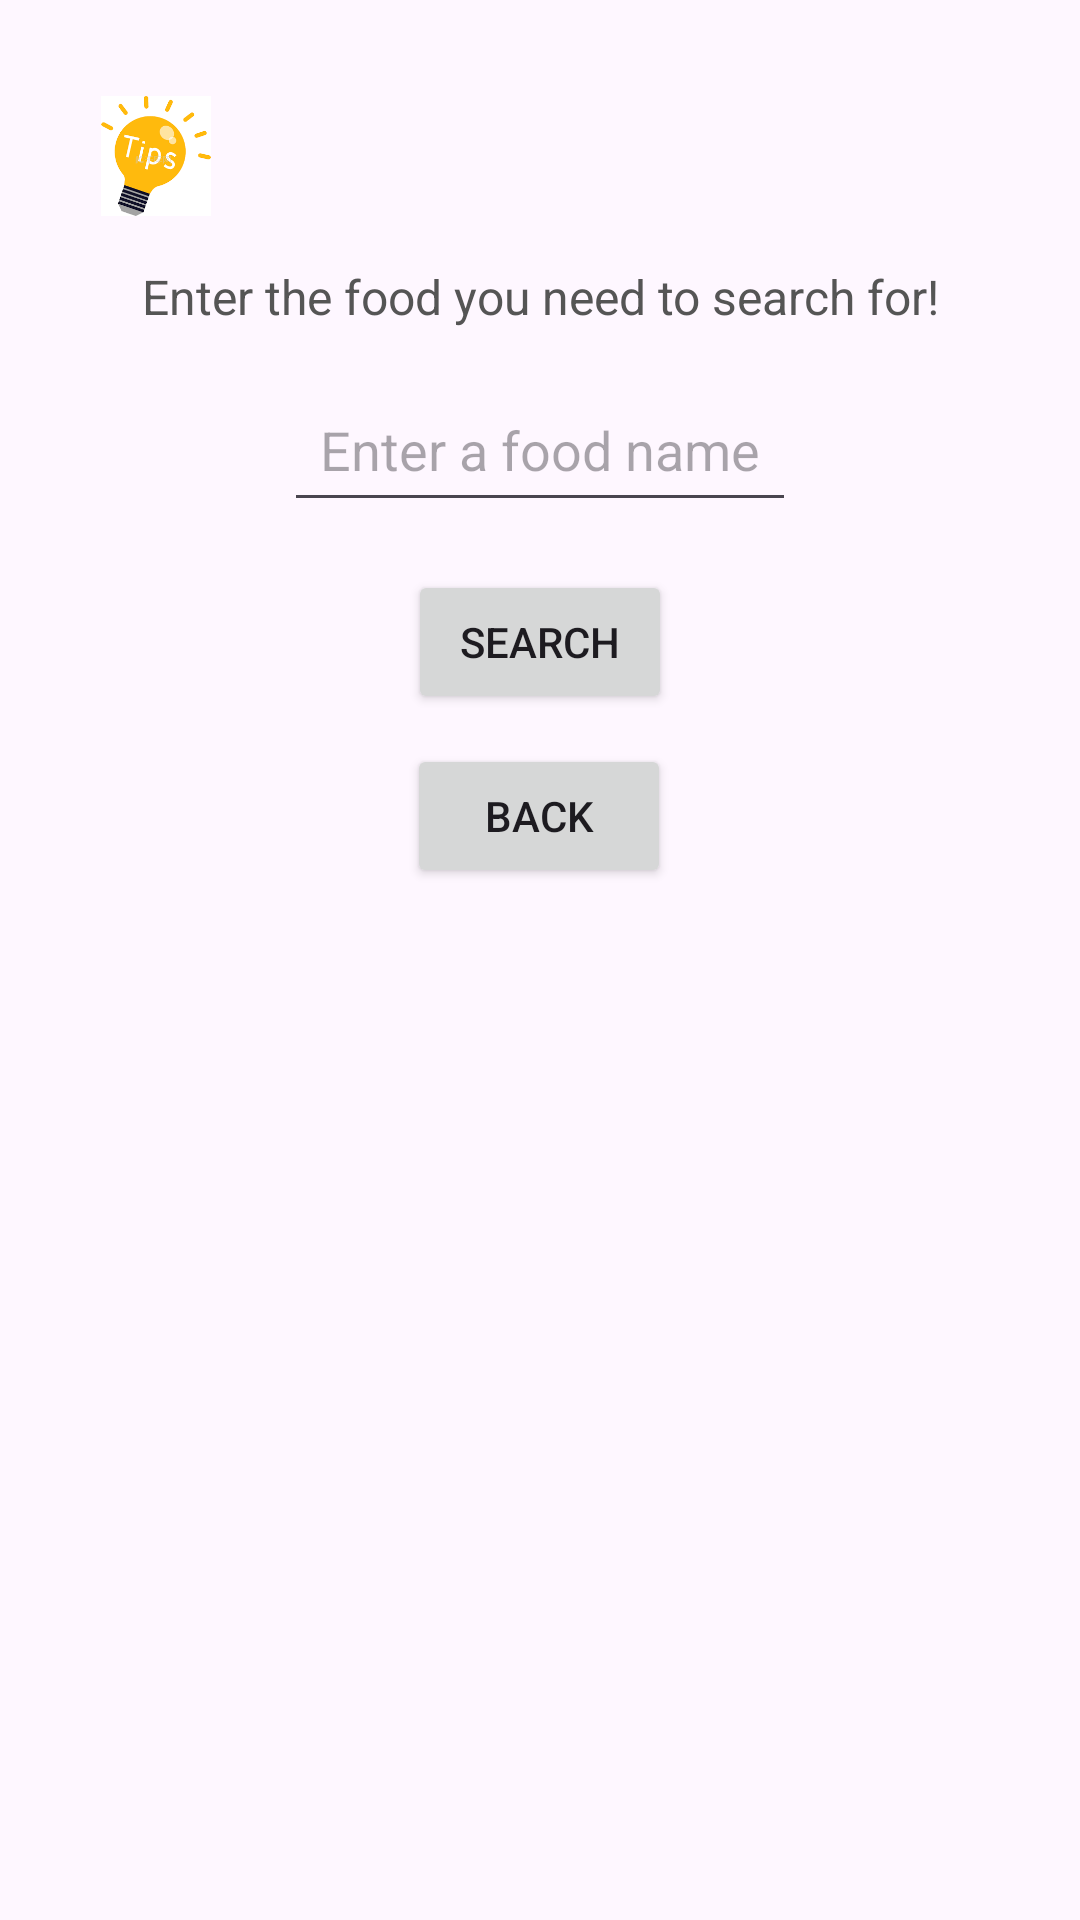

Icon click points for this 1080 × 1920 phone screenshot, format (x=x, y=y):
lightbulb: (x=156, y=156)
